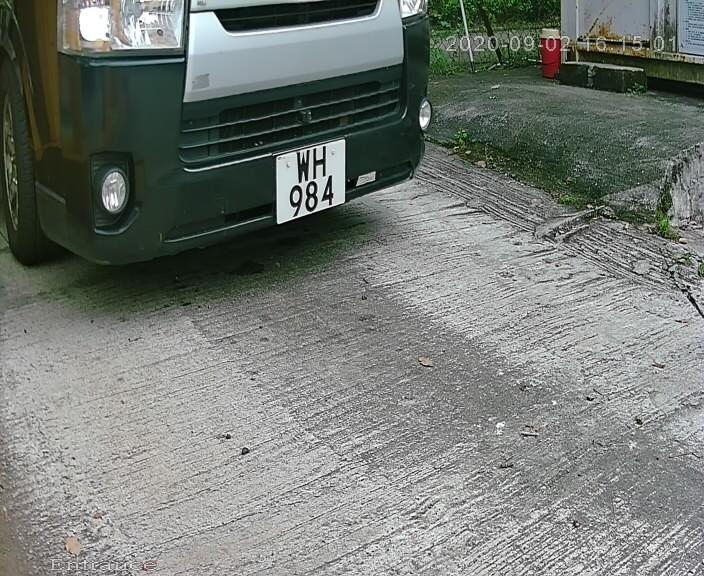License Plate: (268, 134, 359, 224)
